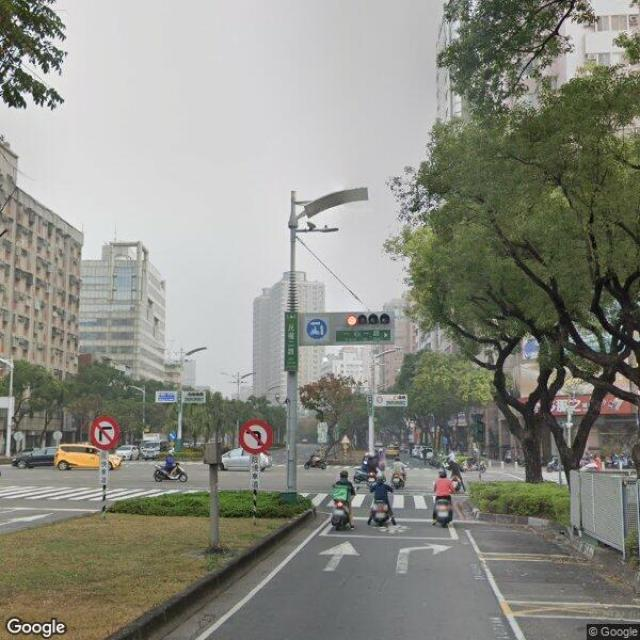illegalparking: (15, 409, 156, 482)
